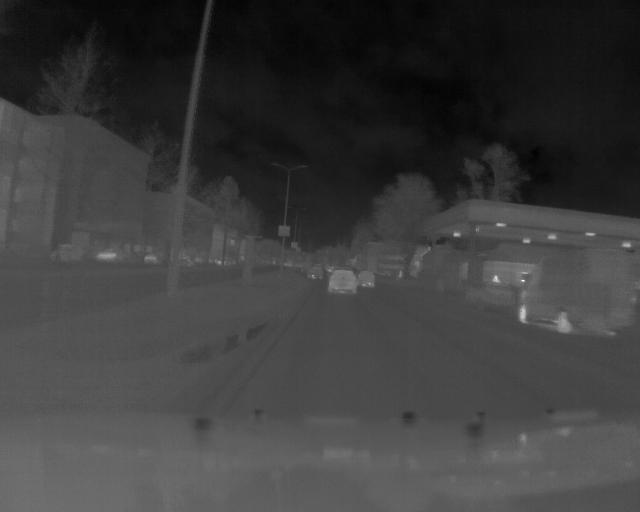car: (517, 254, 640, 338), (328, 267, 358, 298), (359, 268, 377, 289)
